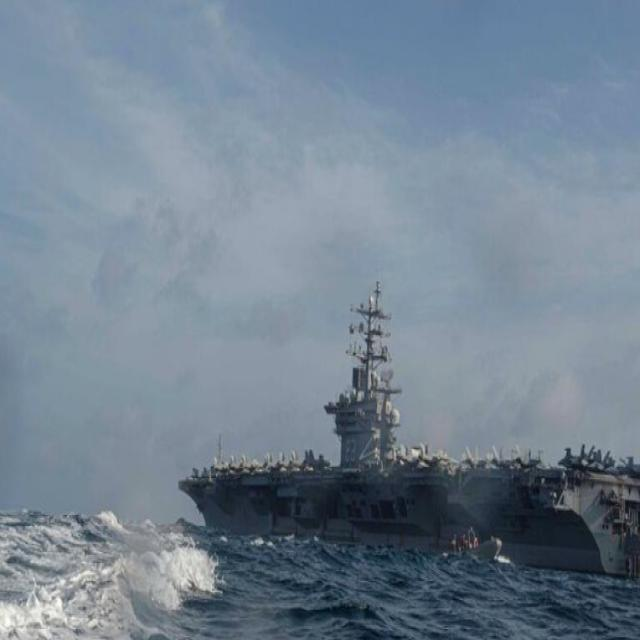navalvessels: (170, 280, 640, 591)
